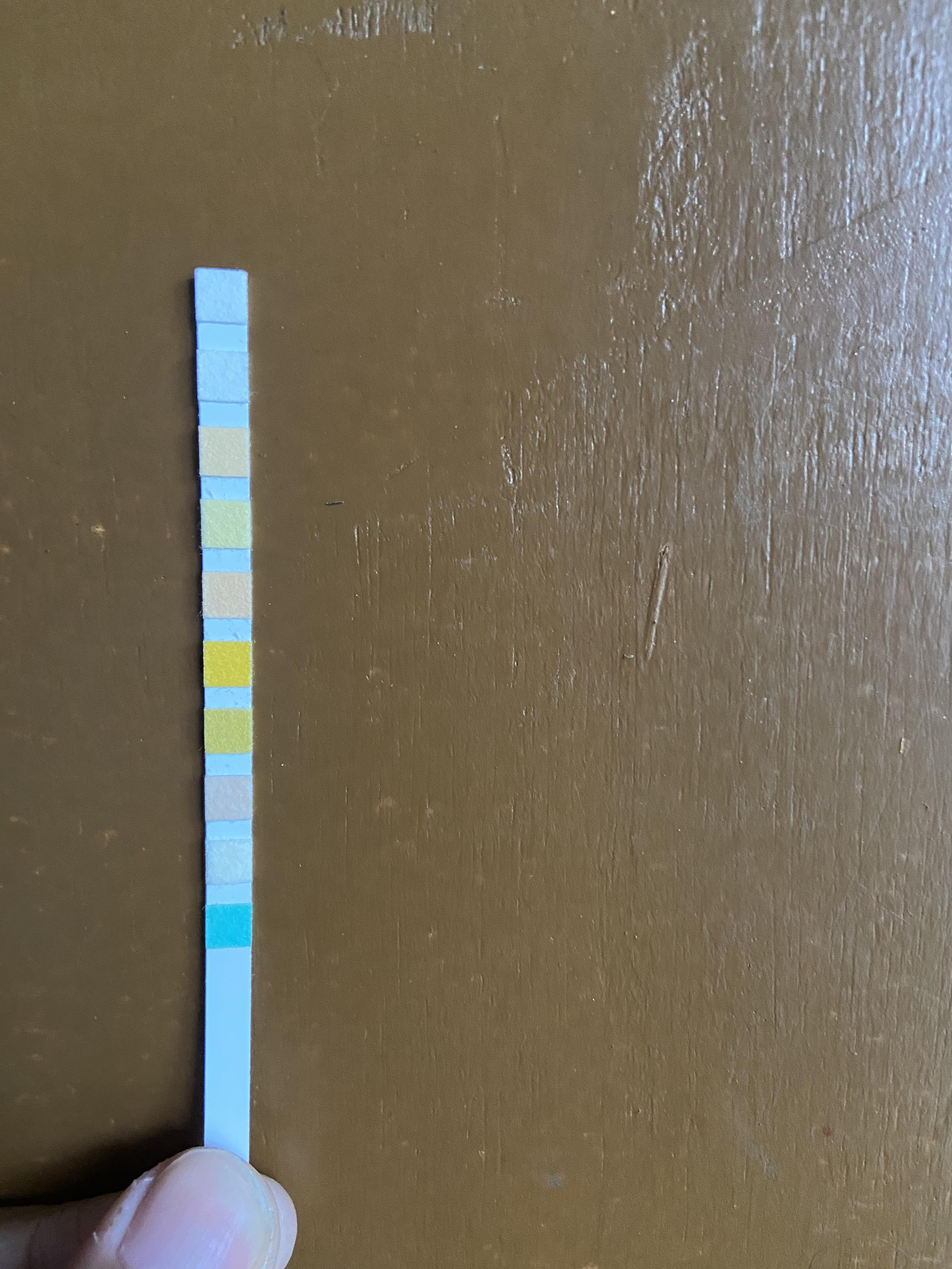Bilirubin: (206, 842, 251, 883)
Blood: (203, 642, 252, 686)
Glucose: (206, 907, 251, 947)
Ketone: (206, 778, 253, 819)
Leukocytes: (196, 271, 246, 320)
Nitrite: (197, 352, 248, 399)
Protein: (201, 501, 251, 547)
SpGravity: (205, 710, 252, 753)
Urobilinogen: (199, 428, 249, 476)
pH: (203, 573, 252, 617)
strip: (196, 268, 252, 1146)
